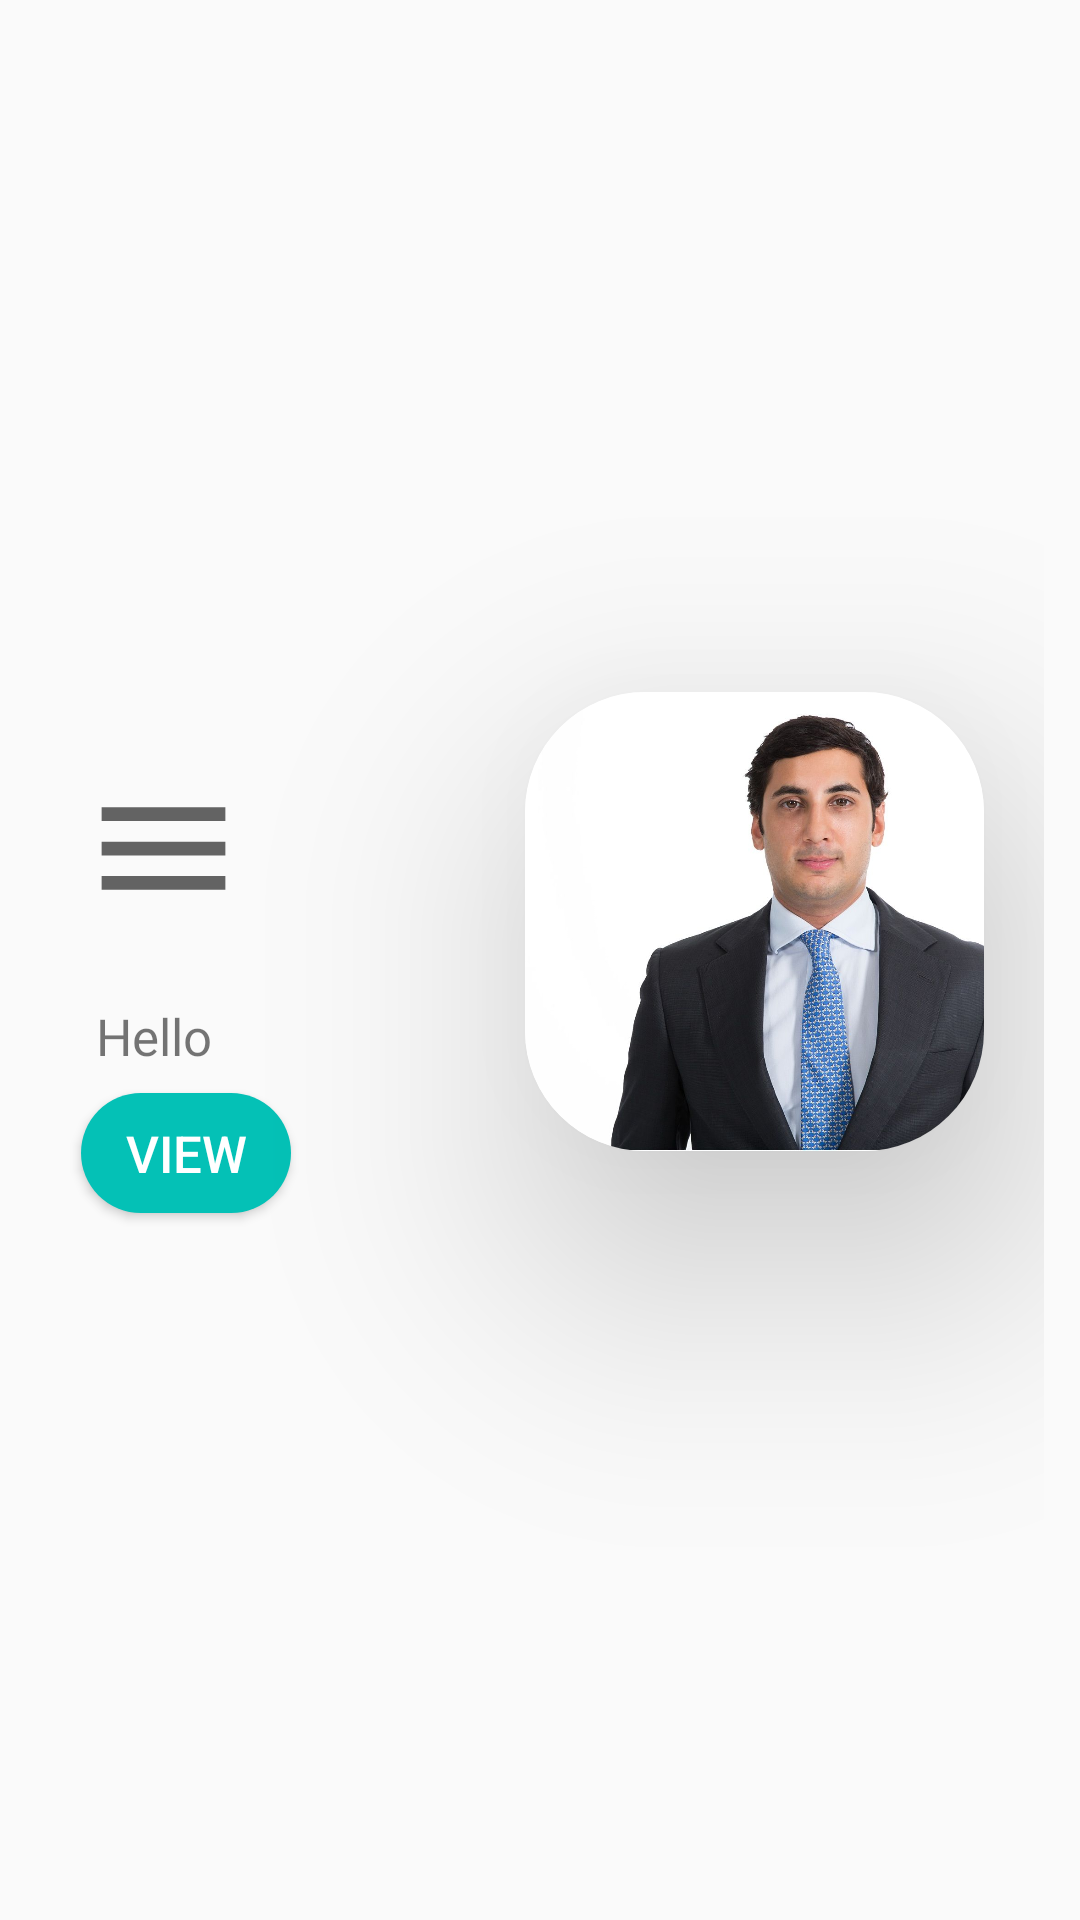

Icon click points for this 1080×1920 phone screenshot, format [x,y]:
menu: [163,848]
